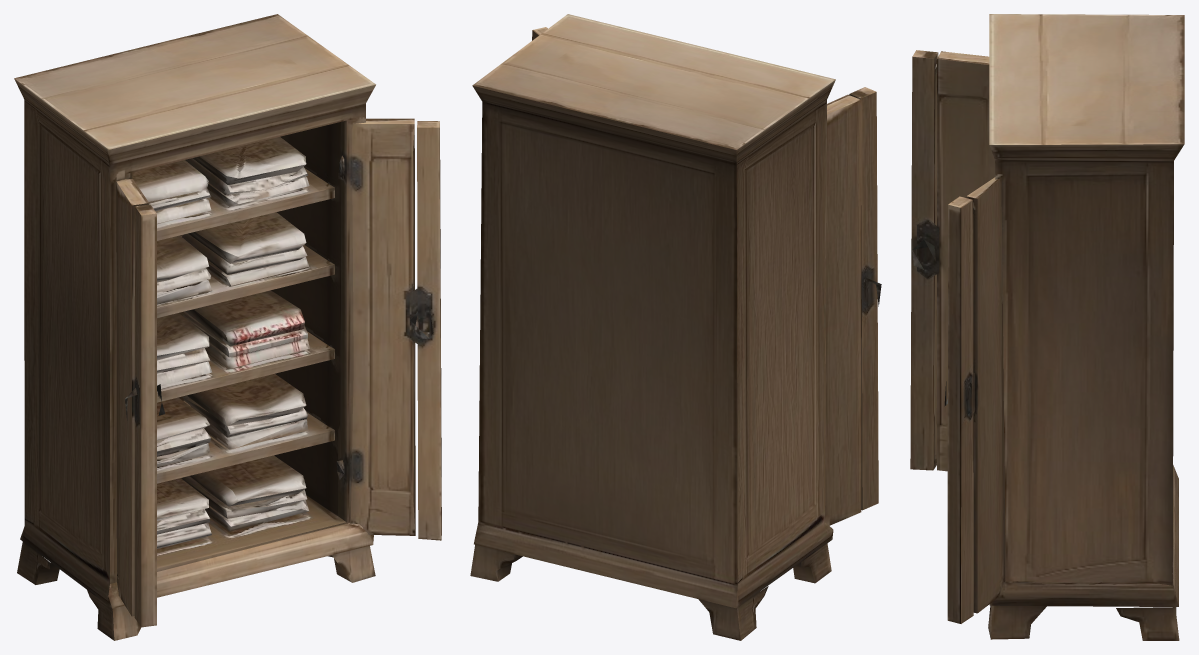
Rendered from act1_extras_v1_linen_press.glb.
The picture shows the model from 3 angles, left to right: view 1: azimuth 30°, elevation 25°; view 2: azimuth 150°, elevation 25°; view 3: azimuth 270°, elevation 25°; orthographic projection.
Parts seen in each view (by area): view 1: A19_4_linen_press; view 2: A19_4_linen_press; view 3: A19_4_linen_press.
Part boxes in pixels (x1,y1,x2,y2): A19_4_linen_press: [14, 14, 441, 640]; A19_4_linen_press: [470, 14, 881, 640]; A19_4_linen_press: [910, 14, 1184, 640].
Size of the model in its own units: 0.7056 by 0.998 by 0.4995.
Materials: 1 (1 with a texture image).
